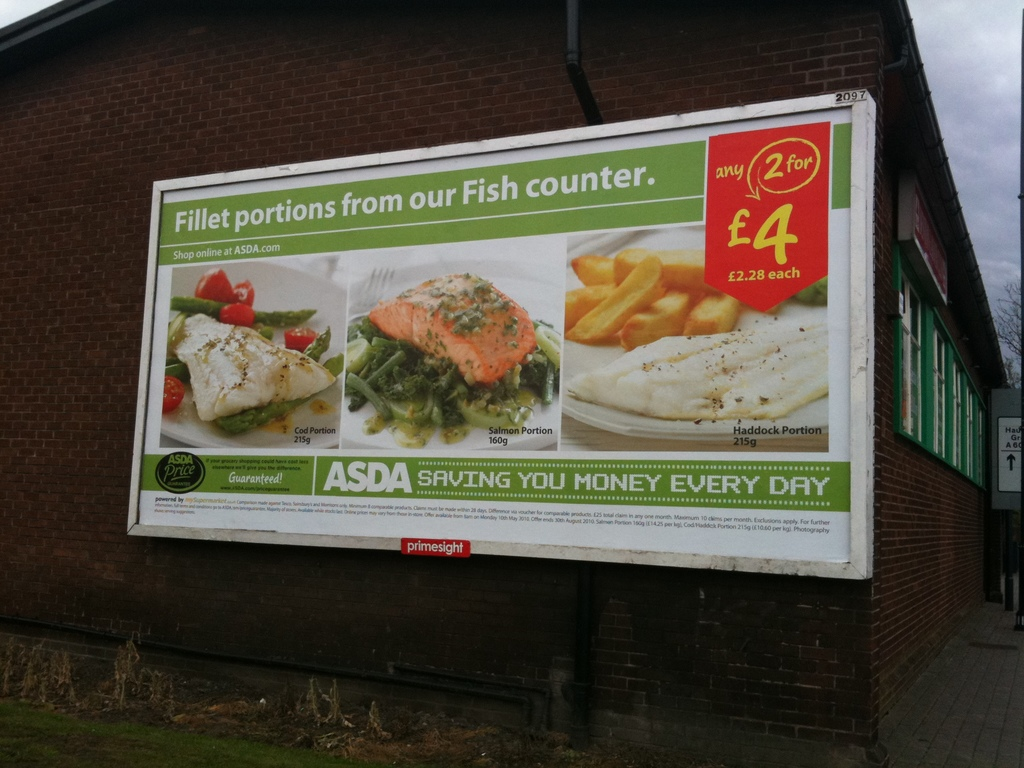French fries: (543, 235, 726, 352)
